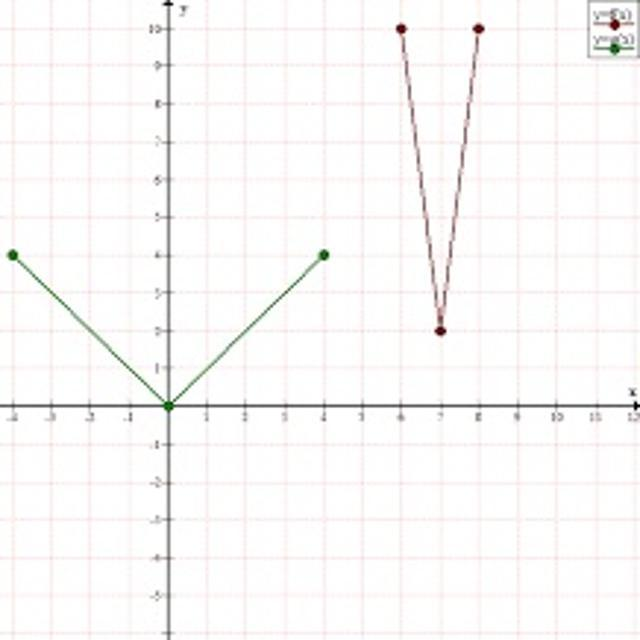axis: (160, 0, 176, 640), (0, 397, 640, 413)
line: (8, 248, 333, 415), (395, 25, 487, 347)
